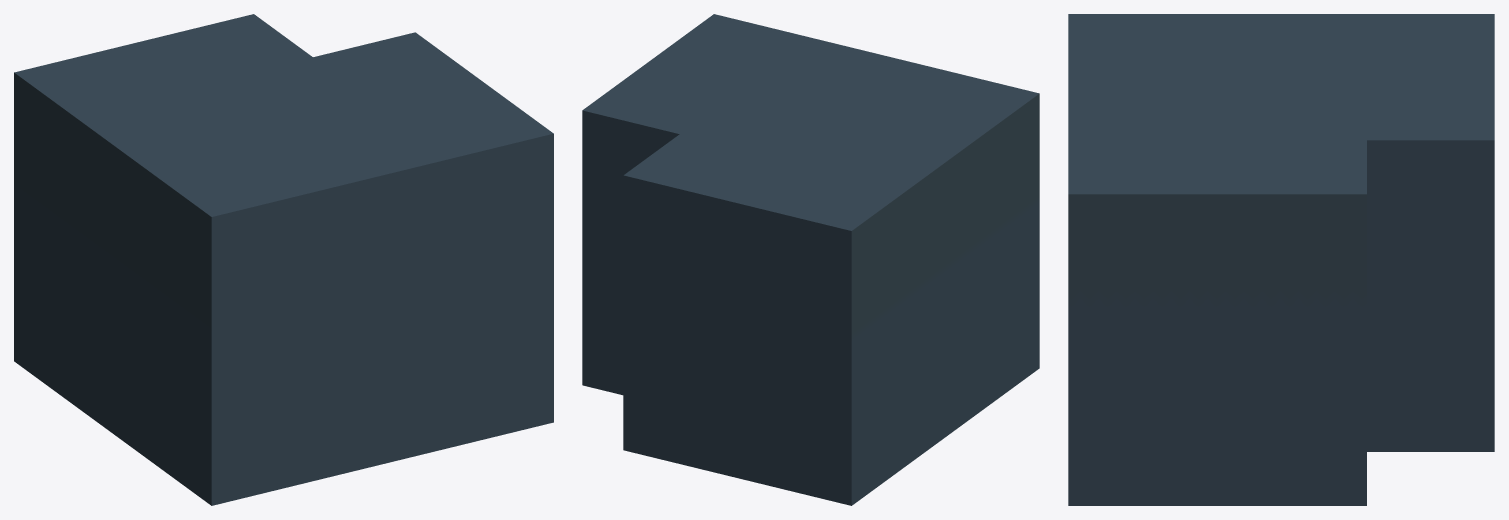
Rendered from CabinetACorner02.glb.
3 views of the same model, side by side, from view 1: azimuth 30°, elevation 25°; view 2: azimuth 150°, elevation 25°; view 3: azimuth 270°, elevation 25° (orthographic). The views are drawn at different scales.
Parts seen in each view (by area): view 1: CabinetACorner02_model; view 2: CabinetACorner02_model; view 3: CabinetACorner02_model.
Part boxes in pixels (x1,y1,x2,y2): CabinetACorner02_model: (14,14,553,505); CabinetACorner02_model: (582,14,1039,505); CabinetACorner02_model: (1068,14,1494,505).
Size of the model in its own units: 1.72 by 1.39 by 1.72.
Materials: 1 (1 with a texture image).
